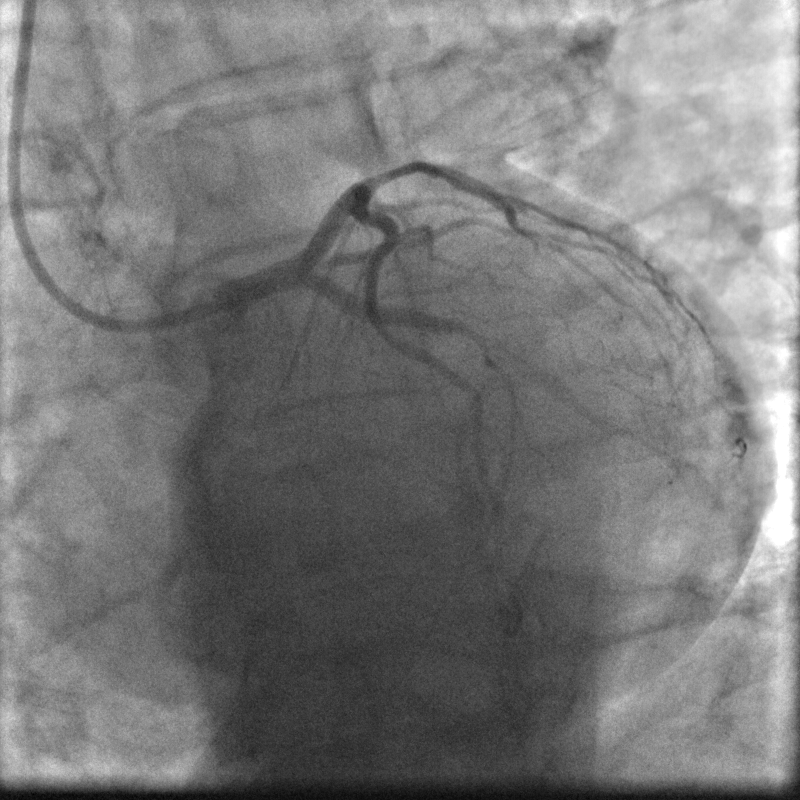Stenosis: (361, 152, 420, 192)
